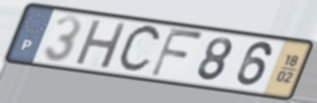3: (41, 13, 84, 65)
6: (234, 40, 273, 90)
8: (196, 37, 235, 83)
C: (114, 23, 165, 76)
F: (147, 25, 206, 80)
H: (72, 18, 130, 71)
